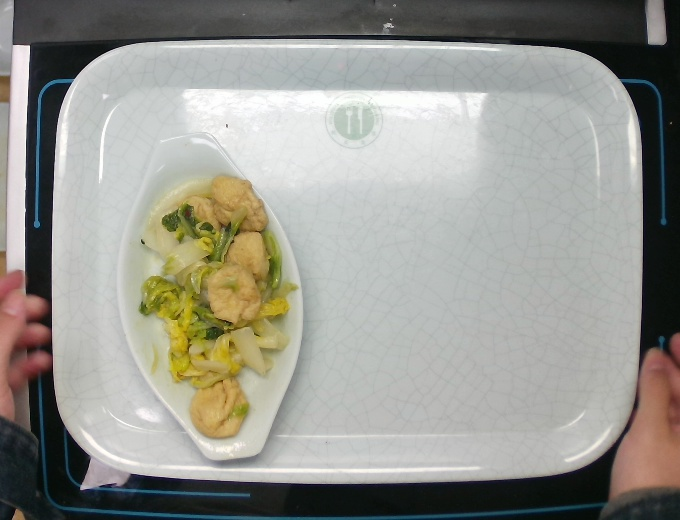JYsf-Yu_Pan: (113, 129, 307, 463)
